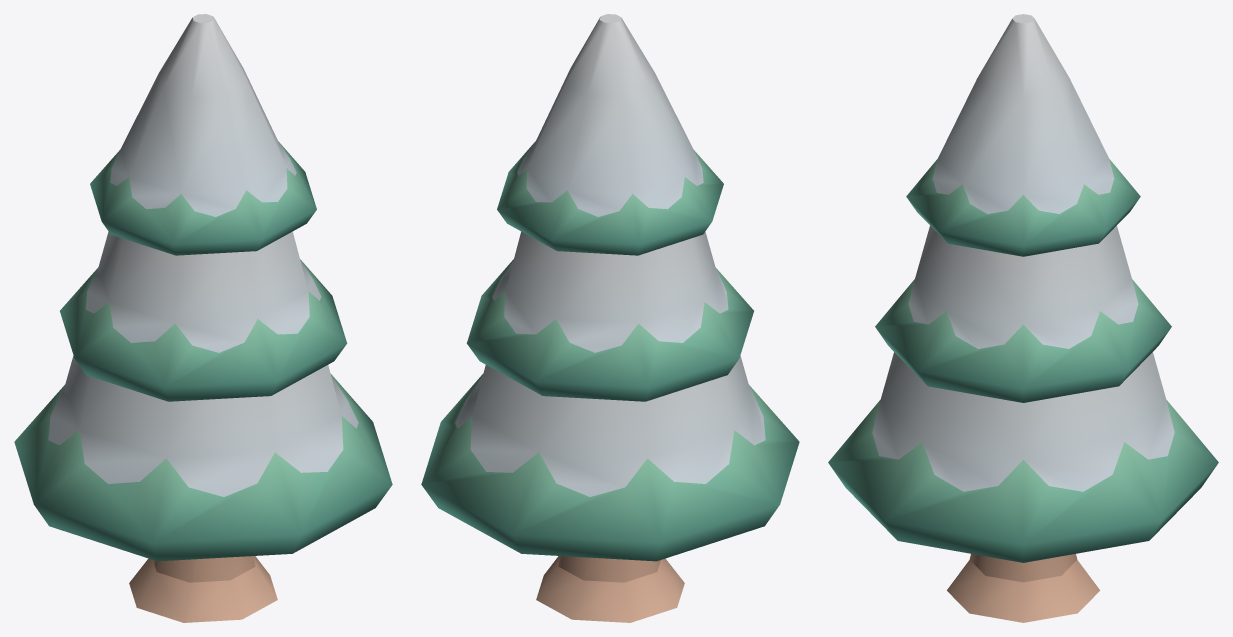
The model's file is tree_snow_a.glb.
The picture shows the model from 3 angles, left to right: view 1: azimuth 30°, elevation 25°; view 2: azimuth 150°, elevation 25°; view 3: azimuth 270°, elevation 25°; orthographic projection.
Visible parts, largest first — view 1: tree_snow_a; view 2: tree_snow_a; view 3: tree_snow_a.
Part boxes in pixels (bbox=[...]): tree_snow_a: bbox=[14, 14, 392, 622]; tree_snow_a: bbox=[421, 14, 799, 622]; tree_snow_a: bbox=[828, 14, 1218, 622].
Size of the model in its own units: 43.38 by 70 by 43.38.
